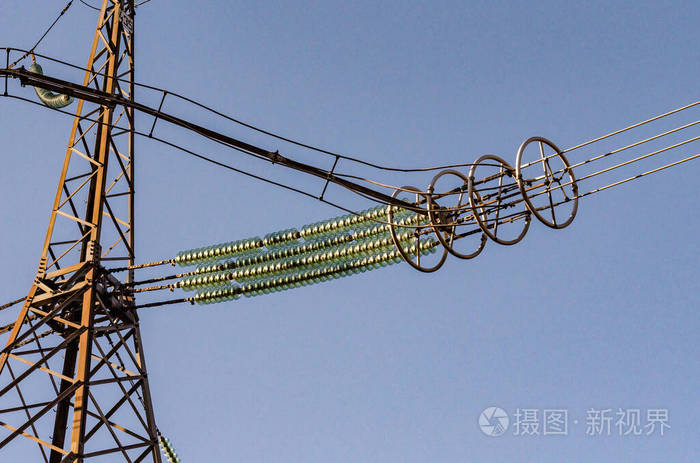insulator: (172, 197, 439, 309)
